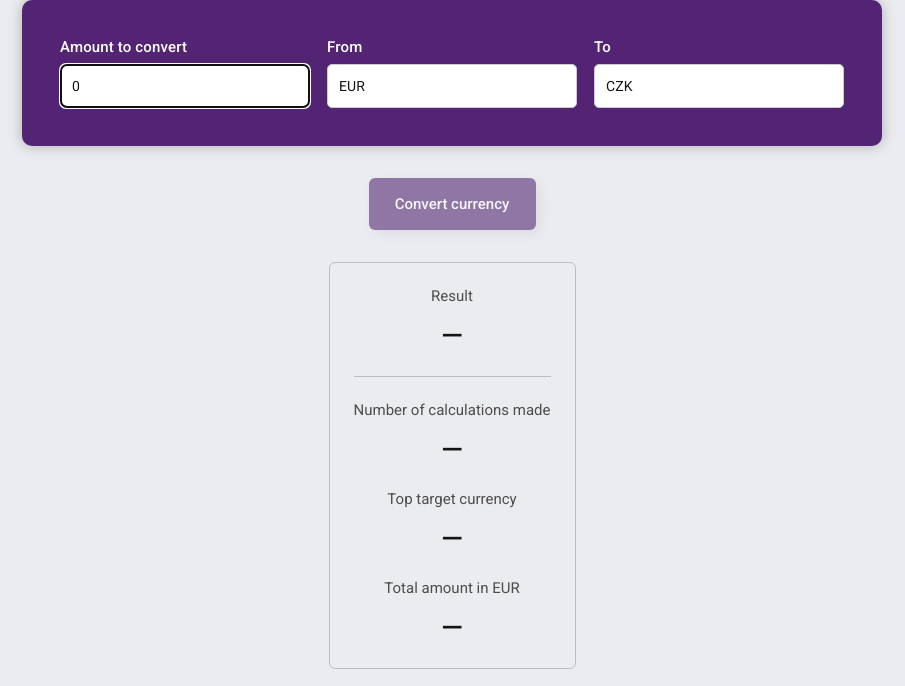
Test: the currency combobox (§10) › closes on Escape without changing the value
Step 1. Click the dropdown labelled "To" → (719, 86), box [594,64,844,108]
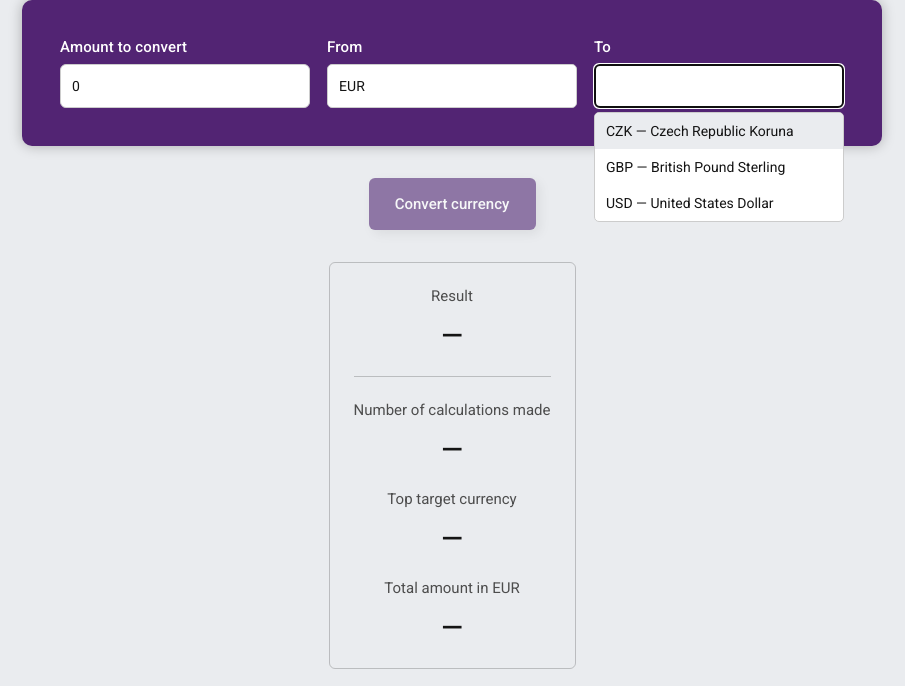
Expected: the list is shown, [594,112,844,222]
Step 2. Press Escape
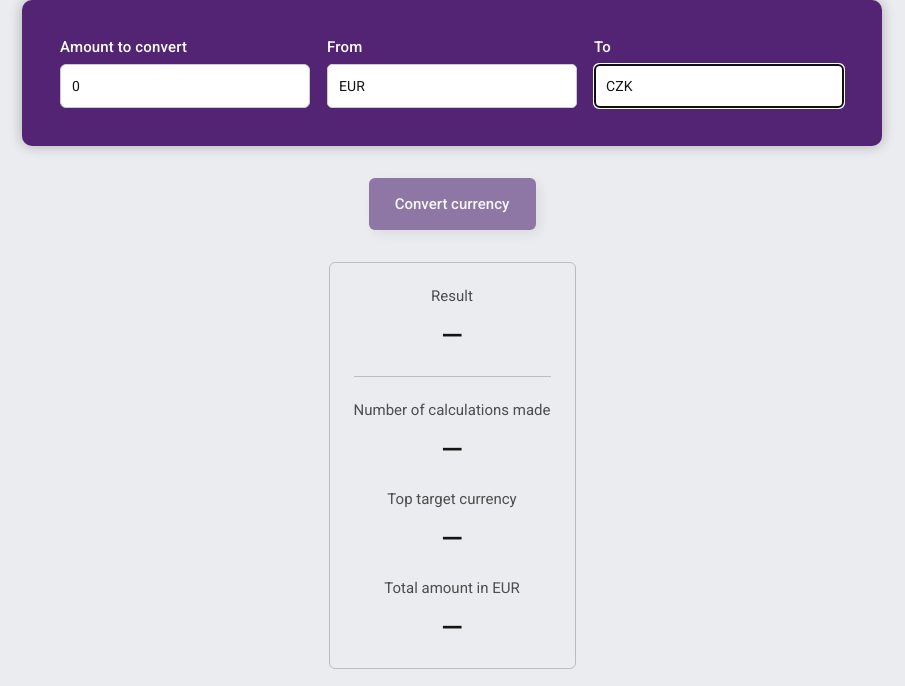
Expected: the list is gone
Expected: the dropdown labelled "To" holds "CZK", [594,64,844,108]
